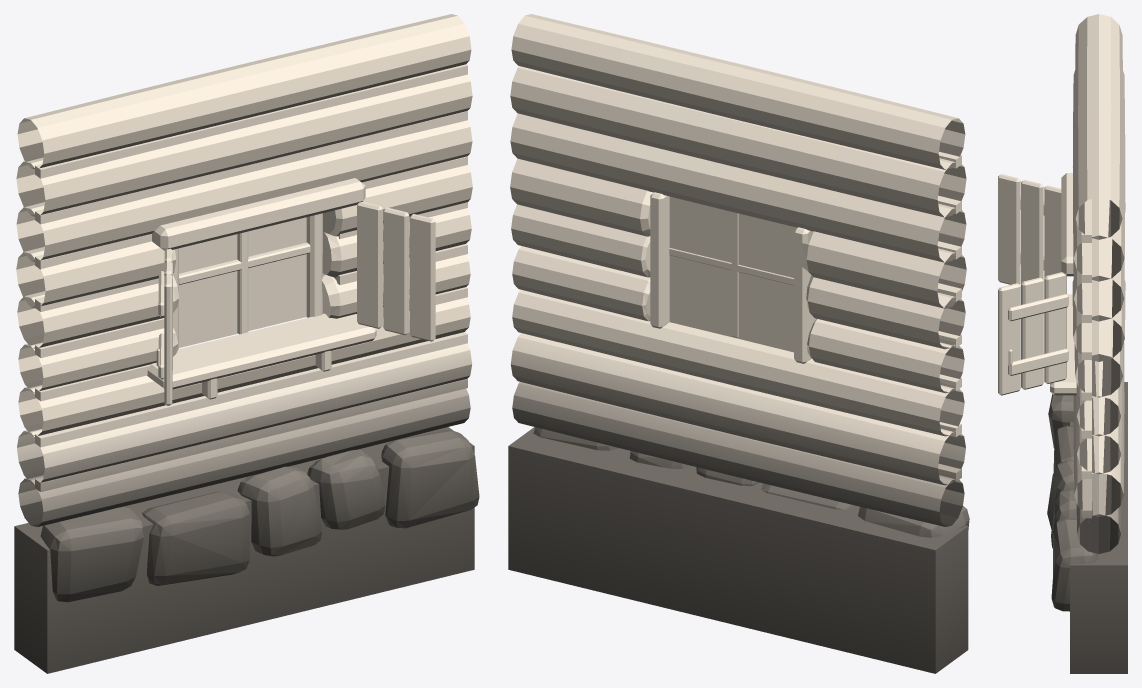
File: SM_VK_Wall_Log_Window.fbx
3 renders of one model, left to right at view 1: azimuth 30°, elevation 25°; view 2: azimuth 150°, elevation 25°; view 3: azimuth 270°, elevation 25°, orthographic. The views are drawn at different scales.
Parts seen in each view (by area): view 1: SM_VK_Wall_Log_Window.001; view 2: SM_VK_Wall_Log_Window.001; view 3: SM_VK_Wall_Log_Window.001.
Boxes of the visible parts, x1,y1,x2,y2 form: SM_VK_Wall_Log_Window.001: (14, 14, 479, 673); SM_VK_Wall_Log_Window.001: (508, 14, 969, 673); SM_VK_Wall_Log_Window.001: (998, 14, 1127, 673).
Bounding box in the file's own units: 3 × 3.64 × 0.899.
